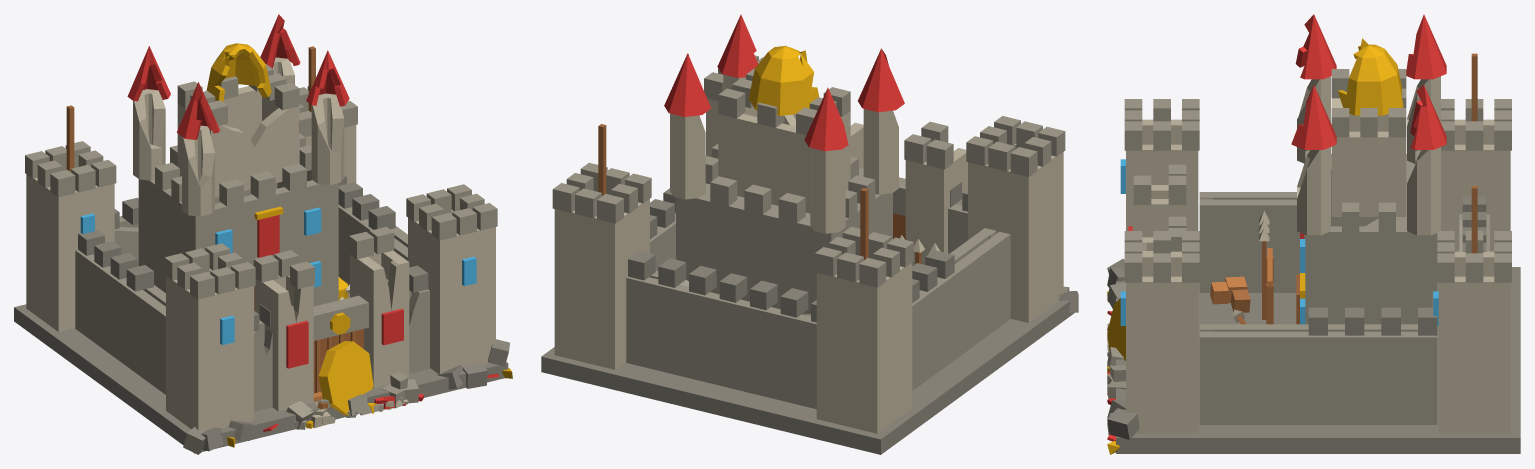
Rendered from castle_v2_dmg1.glb.
The picture shows the model from 3 angles, left to right: view 1: azimuth 30°, elevation 25°; view 2: azimuth 150°, elevation 25°; view 3: azimuth 270°, elevation 25°; orthographic projection. The views are drawn at different scales.
Parts seen in each view (by area): view 1: castle_v2_dmg1; view 2: castle_v2_dmg1; view 3: castle_v2_dmg1.
Boxes of the visible parts, <box> form: castle_v2_dmg1: <box>14,14,512,454</box>; castle_v2_dmg1: <box>541,14,1078,454</box>; castle_v2_dmg1: <box>1107,14,1520,454</box>.
Size of the model in its own units: 0.96 by 0.81 by 0.94.
Materials: 1 (1 with a texture image).
